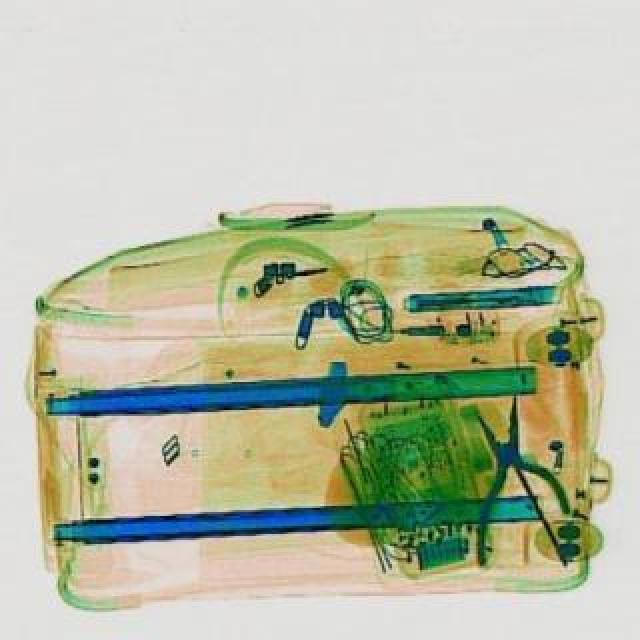wrench: (442, 386, 576, 564)
